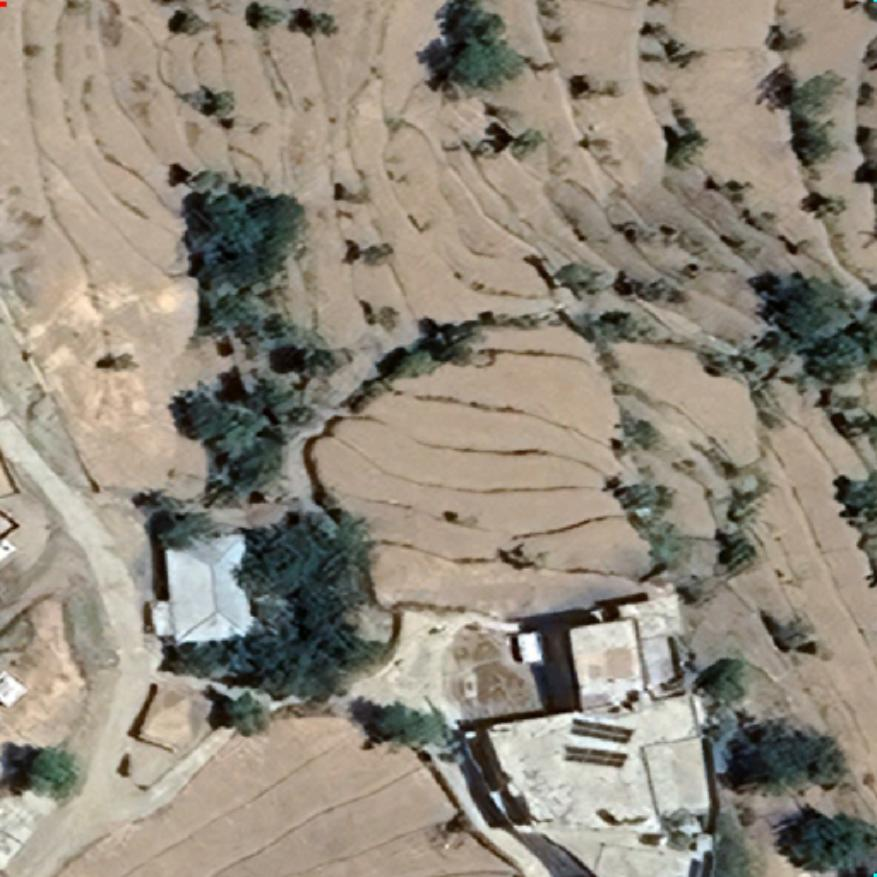Solarpanel: (566, 715, 638, 747), (559, 744, 631, 772)
